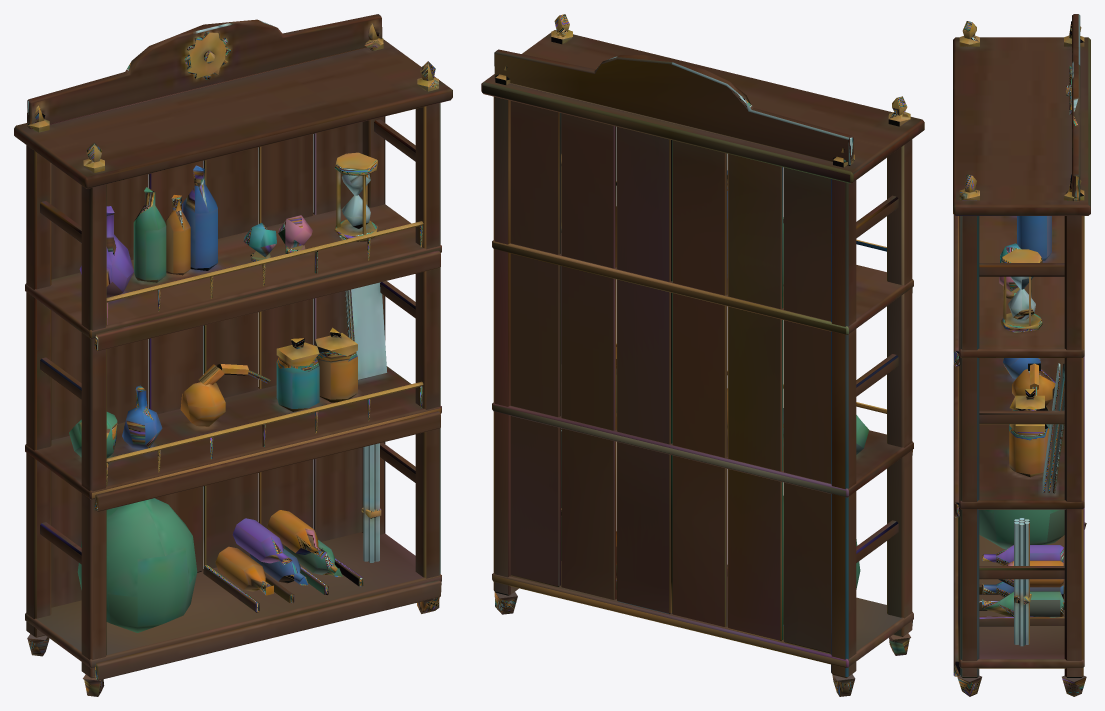
File: glassware-shelf.low.glb
3 renders of one model, left to right at view 1: azimuth 30°, elevation 25°; view 2: azimuth 150°, elevation 25°; view 3: azimuth 270°, elevation 25°, orthographic. The views are drawn at different scales.
Parts seen in each view (by area): view 1: glassware-shelf; view 2: glassware-shelf; view 3: glassware-shelf.
Part boxes in pixels (x1=…): glassware-shelf: x1=14, y1=14, x2=452, y2=696; glassware-shelf: x1=481, y1=14, x2=924, y2=696; glassware-shelf: x1=953, y1=14, x2=1090, y2=696.
Bounding box in the file's own units: 0.96 × 1.46 × 0.3299.
1 material, 1 textured.
